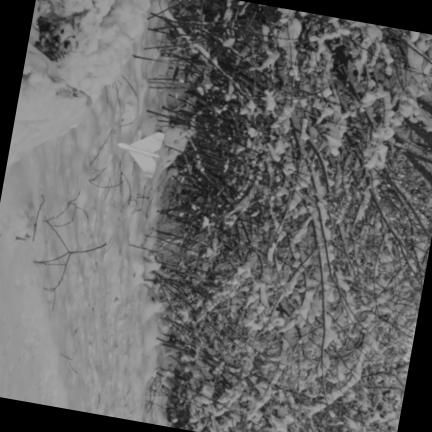Shahed: (117, 132, 163, 177)
